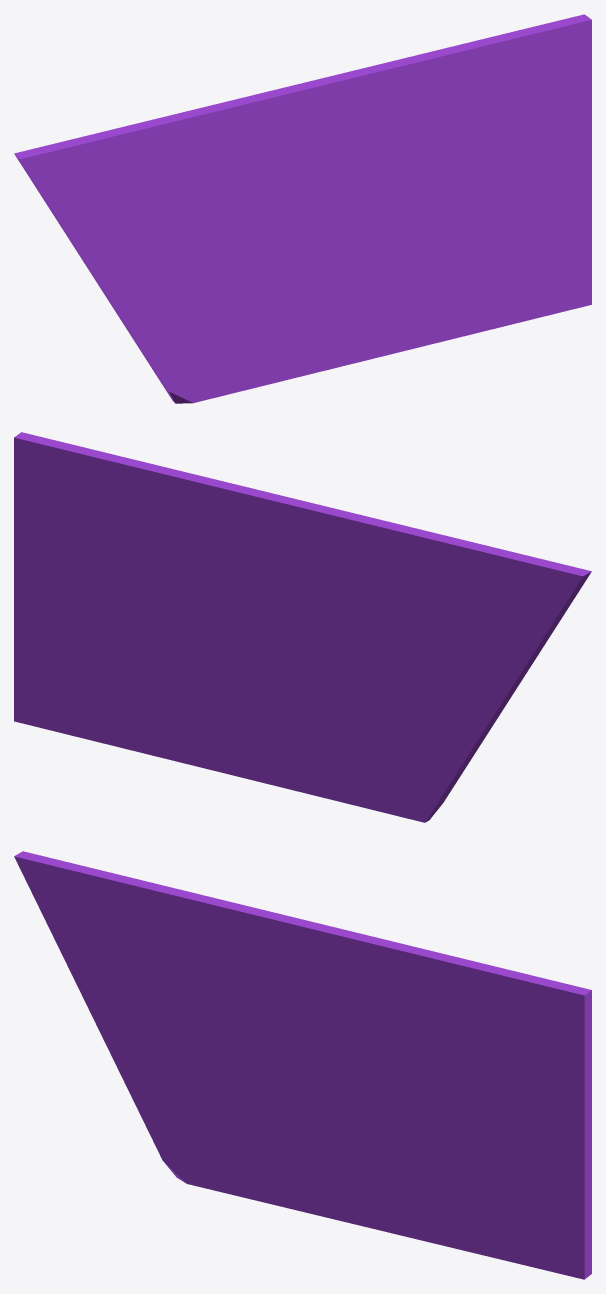
The model's file is Glass_98_3_chunks.fbx.
The picture shows the model from 3 angles, top to bottom: view 1: azimuth 30°, elevation 25°; view 2: azimuth 150°, elevation 25°; view 3: azimuth 330°, elevation 25°; orthographic projection.
Parts seen in each view (by area): view 1: Glass_98_3_5, Glass_98_3_6, Glass_98_3_17, Glass_98_3_4, Glass_98_3_1, Glass_98_3_0, Glass_98_3_13, Glass_98_3_2, Glass_98_3_20, Glass_98_3_15, Glass_98_3_19, Glass_98_3_9 (+8 smaller); view 2: Glass_98_3_6, Glass_98_3_5, Glass_98_3_4, Glass_98_3_17, Glass_98_3_7, Glass_98_3_1, Glass_98_3_13, Glass_98_3_19, Glass_98_3_2, Glass_98_3_11, Glass_98_3_15, Glass_98_3_20 (+7 smaller); view 3: Glass_98_3_5, Glass_98_3_6, Glass_98_3_17, Glass_98_3_4, Glass_98_3_1, Glass_98_3_0, Glass_98_3_13, Glass_98_3_2, Glass_98_3_20, Glass_98_3_15, Glass_98_3_19, Glass_98_3_9 (+8 smaller).
Part boxes in pixels (x1,y1,x2,y2): Glass_98_3_5: (415,162,591,348); Glass_98_3_6: (383,14,591,209); Glass_98_3_17: (259,41,492,167); Glass_98_3_4: (321,177,441,355); Glass_98_3_1: (81,258,214,403); Glass_98_3_0: (271,252,384,383); Glass_98_3_13: (25,171,185,285); Glass_98_3_2: (213,256,303,397); Glass_98_3_20: (14,143,160,208); Glass_98_3_15: (280,140,412,258); Glass_98_3_19: (155,94,260,198); Glass_98_3_9: (126,181,284,253); Glass_98_3_6: (14,432,224,620); Glass_98_3_5: (14,613,182,762); Glass_98_3_4: (159,588,292,777); Glass_98_3_17: (120,456,346,591); Glass_98_3_7: (14,502,163,641); Glass_98_3_1: (384,674,525,822); Glass_98_3_13: (420,592,575,698); Glass_98_3_19: (339,514,450,621); Glass_98_3_2: (288,669,384,812); Glass_98_3_11: (297,634,425,712); Glass_98_3_15: (201,558,325,669); Glass_98_3_20: (444,556,591,624); Glass_98_3_5: (408,1108,591,1279); Glass_98_3_6: (376,963,591,1111); Glass_98_3_17: (257,911,485,1028); Glass_98_3_4: (314,1051,434,1236); Glass_98_3_1: (80,991,207,1188); Glass_98_3_0: (264,1093,377,1229); Glass_98_3_13: (30,889,178,1042); Glass_98_3_2: (207,1086,296,1202); Glass_98_3_20: (14,851,154,963); Glass_98_3_15: (274,1018,405,1095); Glass_98_3_19: (148,892,266,973); Glass_98_3_9: (120,958,278,1078).
Bounding box in the file's own units: 1198 × 573 × 27.2.
